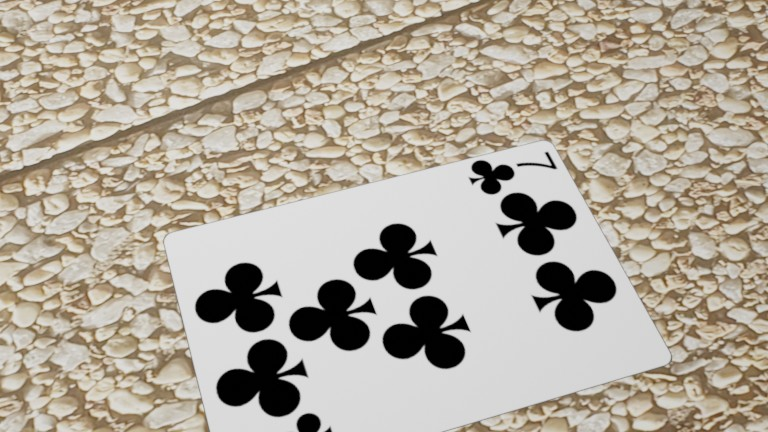7_of_clubs: (460, 142, 565, 201), (220, 405, 344, 432)
